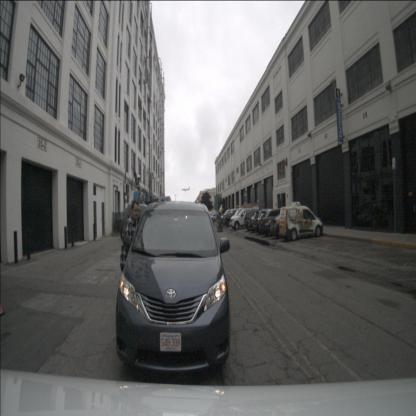human-pedestrian-adult: (120, 200, 143, 331)
vehicle-car: (116, 202, 230, 379), (279, 206, 323, 242), (259, 209, 296, 236), (270, 210, 305, 238), (230, 208, 259, 230), (251, 210, 278, 232), (243, 208, 267, 230), (222, 211, 245, 227)
